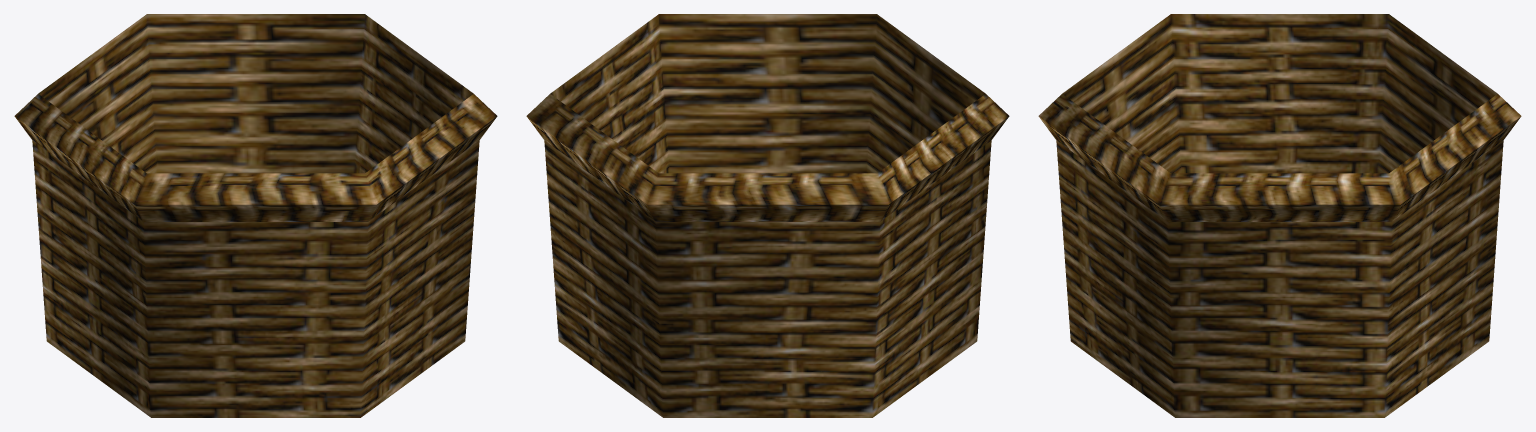
File: Basket01.fbx
3 views of the same model, side by side, from view 1: azimuth 30°, elevation 25°; view 2: azimuth 150°, elevation 25°; view 3: azimuth 270°, elevation 25° (orthographic).
Visible parts, largest first — view 1: Basket01; view 2: Basket01; view 3: Basket01.
Boxes of the visible parts, x1=… form: Basket01: x1=14, y1=14, x2=497, y2=417; Basket01: x1=526, y1=14, x2=1009, y2=417; Basket01: x1=1038, y1=14, x2=1521, y2=417.
Size of the model in its own units: 1.87 by 1.22 by 2.16.
